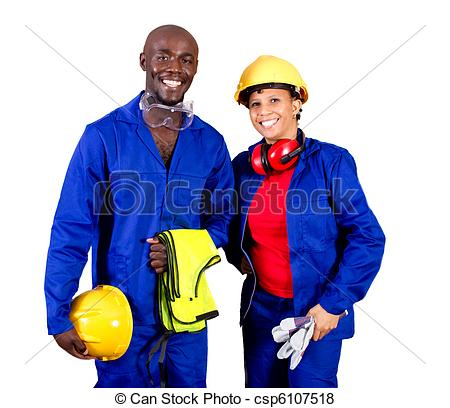Person_wearing_helmet: (233, 47, 314, 109)
